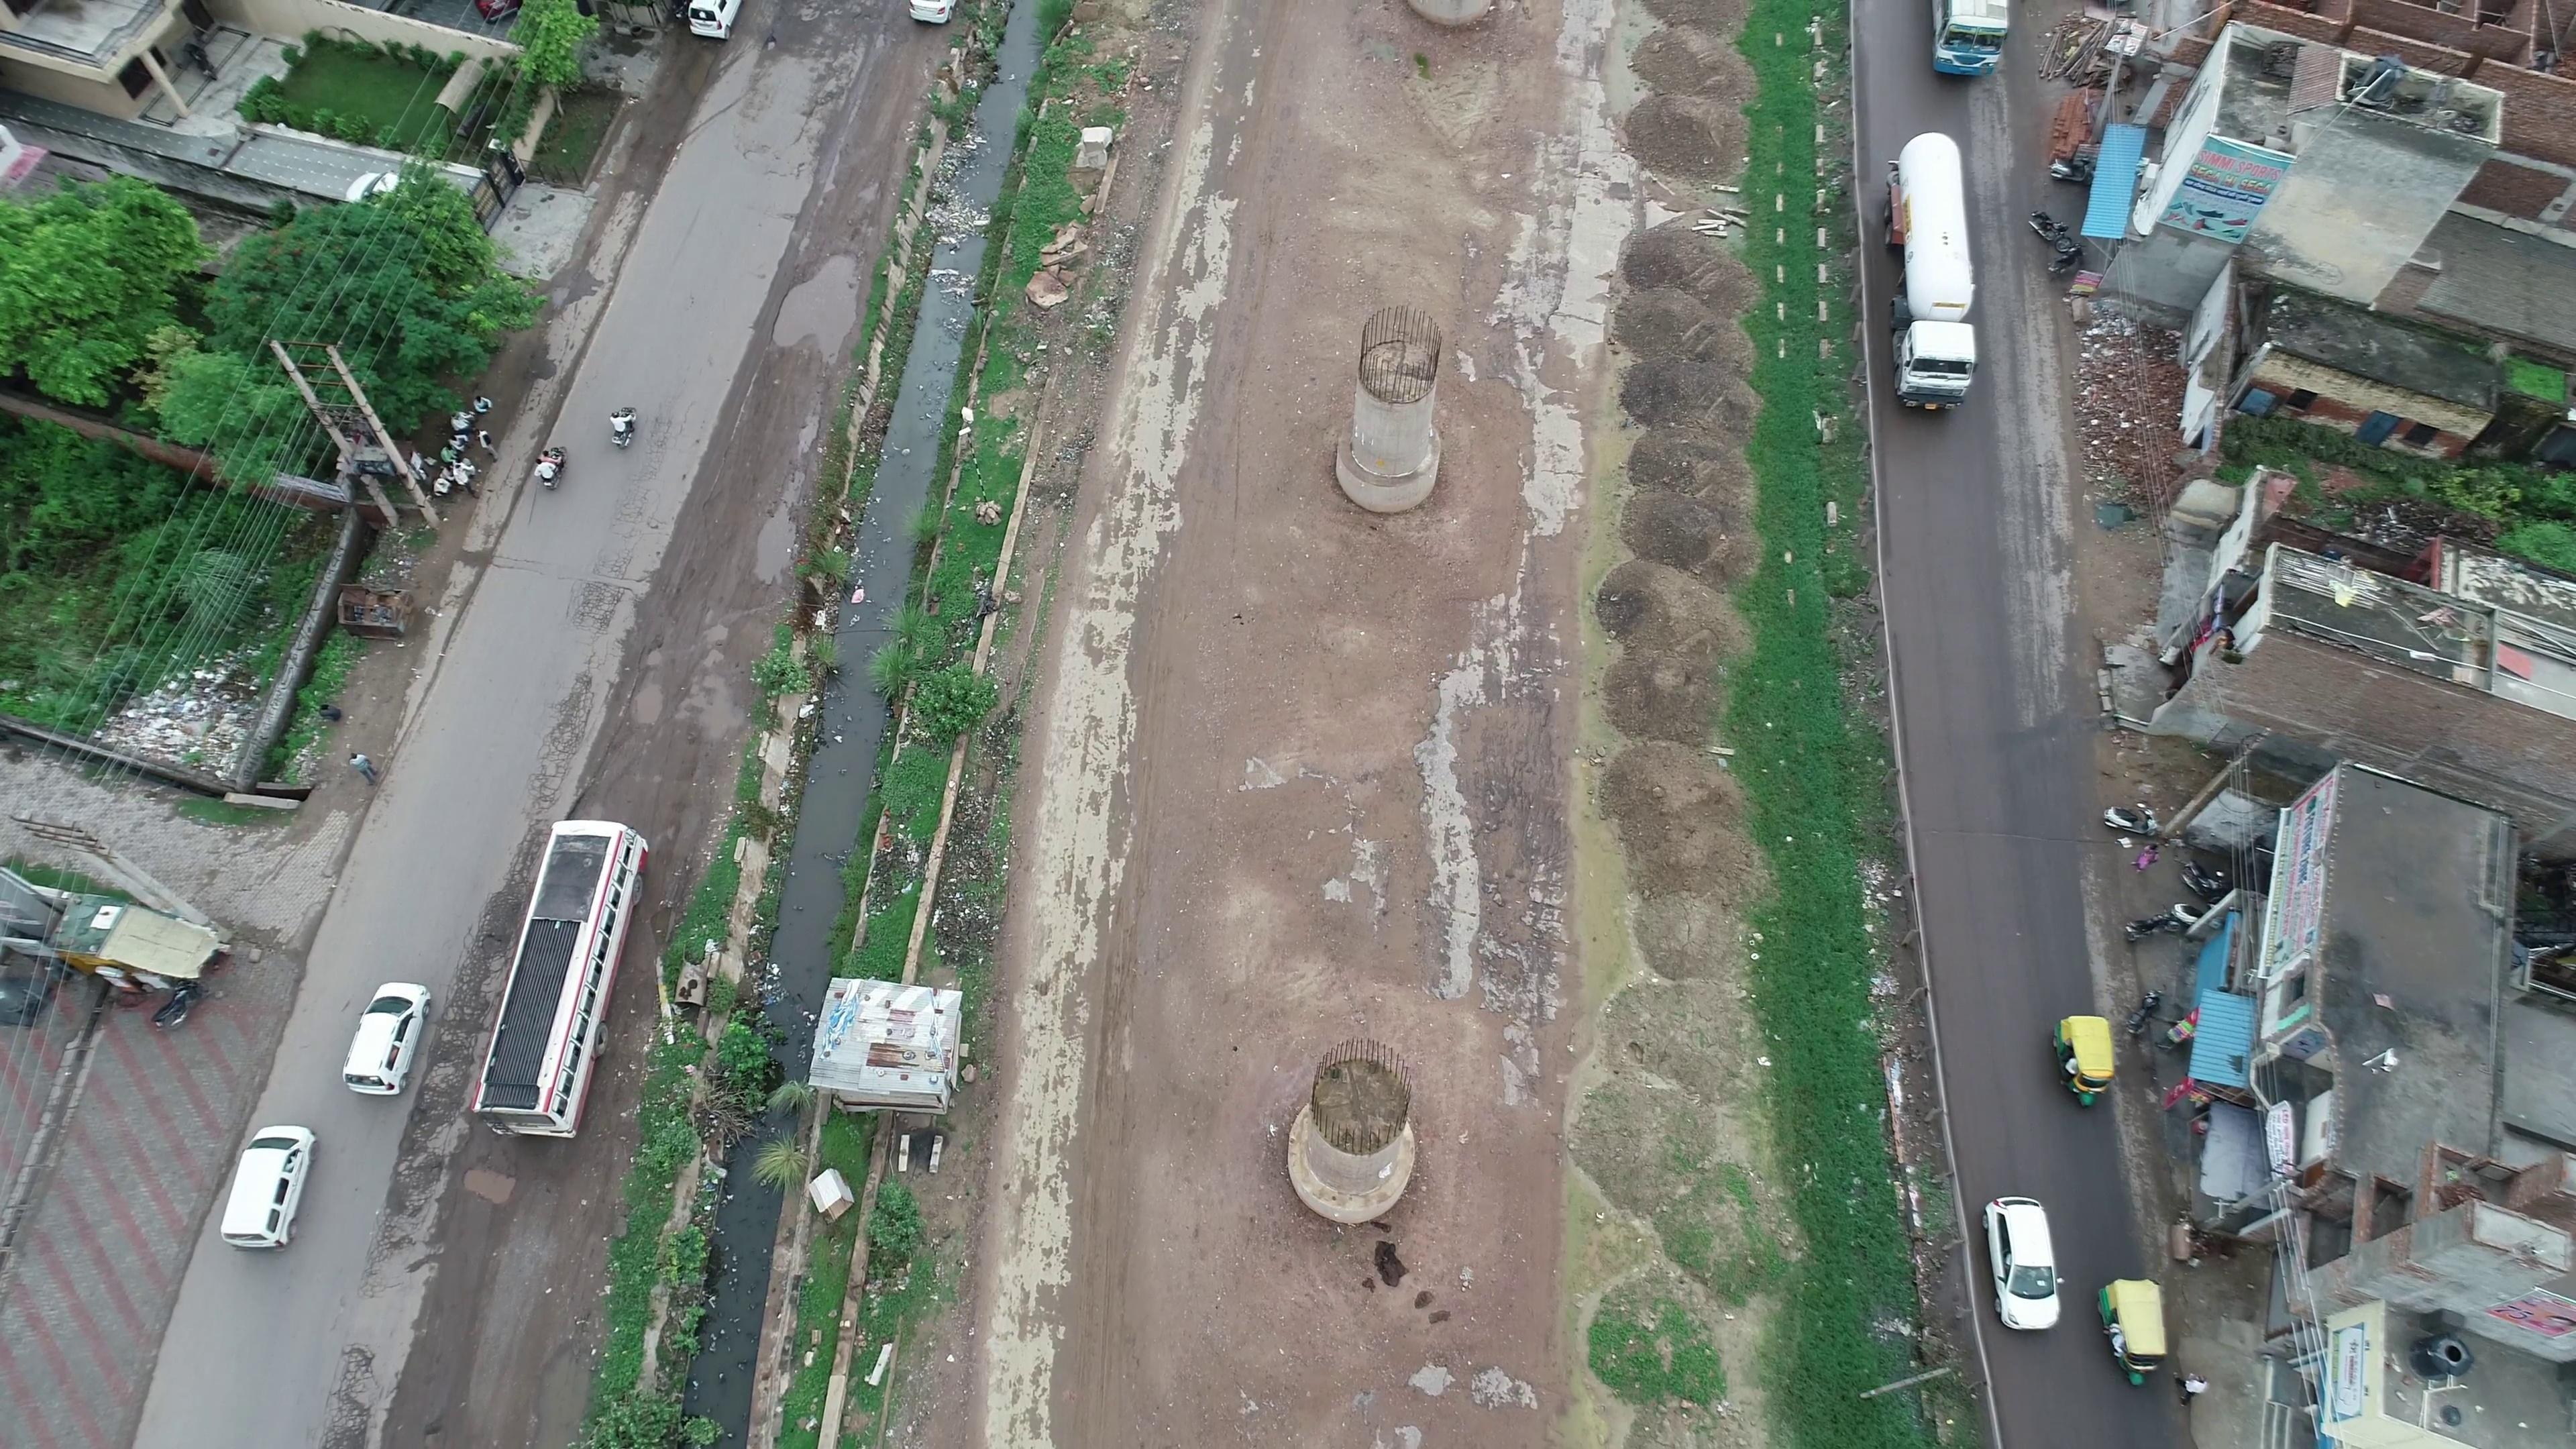Alligator_cracks: (536, 543, 640, 747), (481, 752, 570, 908), (311, 1318, 403, 1442), (343, 1180, 448, 1286), (605, 412, 697, 529), (412, 966, 495, 1093)
Potholes: (398, 1108, 455, 1198), (458, 924, 511, 970)
